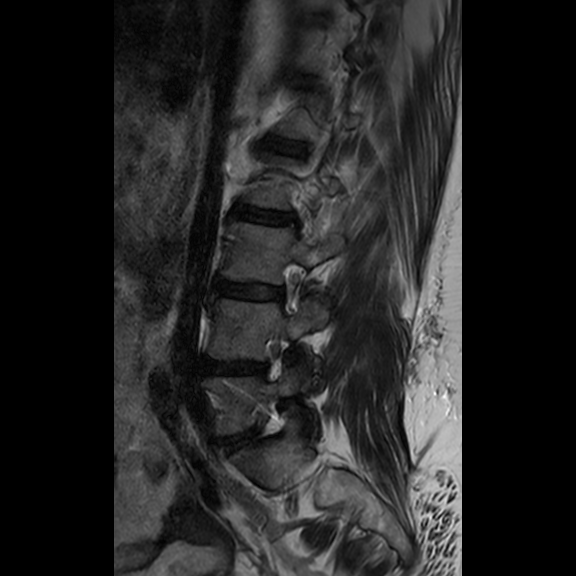RFS0: (266, 251, 312, 323), (249, 327, 297, 388)
